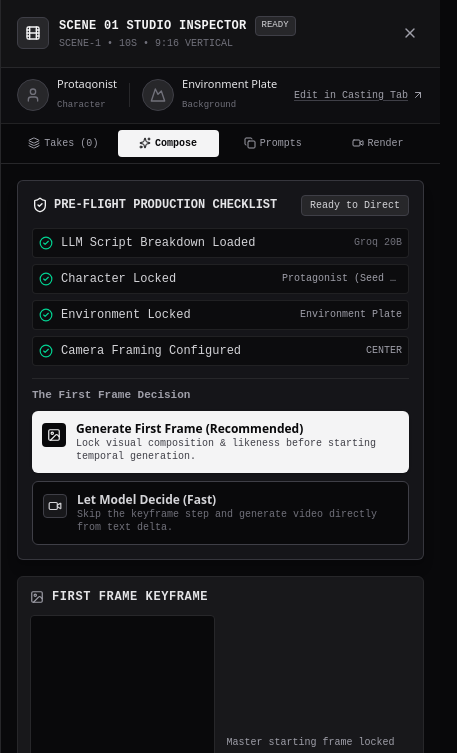
NodeInspector Component (Takes Variation Engine) › shows Pre-Flight Checklist exclusively in Compose tab and hides it in other tabs
This screenshot has width=457, height=753.
expect the text "Pre-Flight Production Checklist" is shown: met, box top-left (32, 197), bottom-right (277, 213)
Click the button "Prompts" at (273, 143), box top-left (222, 130), bottom-right (323, 156)
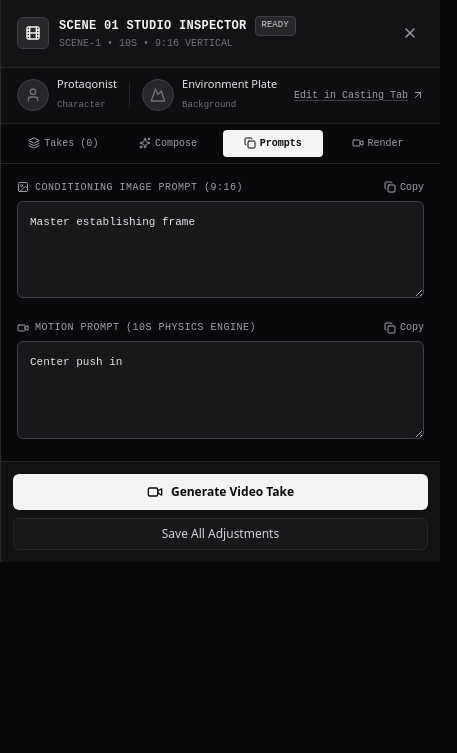
expect the text "Pre-Flight Production Checklist" is gone: met
Click the button "Render" at (378, 143), box top-left (327, 130), bottom-right (428, 156)
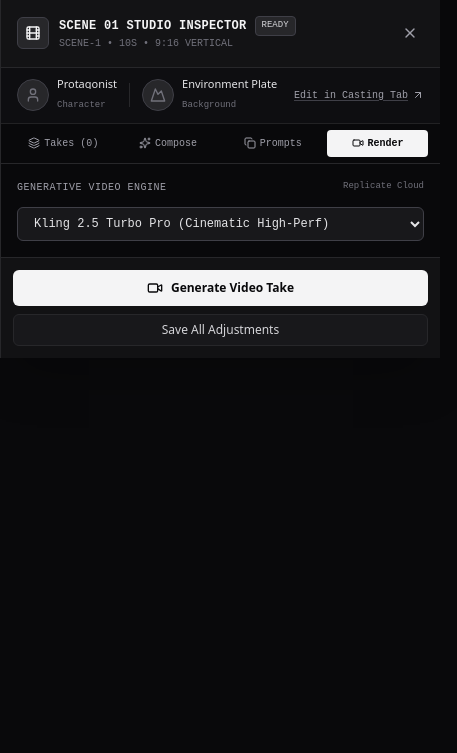
expect the text "Pre-Flight Production Checklist" is not shown: met
Click the button "Compose" at (168, 143), box top-left (118, 130), bottom-right (219, 156)
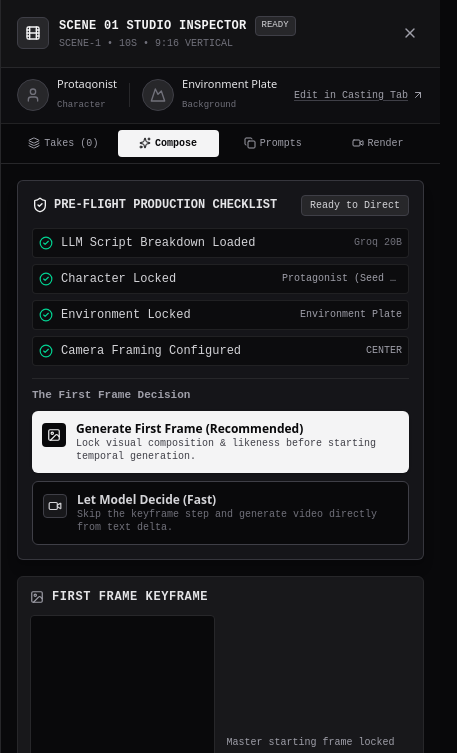
expect the text "Pre-Flight Production Checklist" is shown: met, box top-left (32, 197), bottom-right (277, 213)
